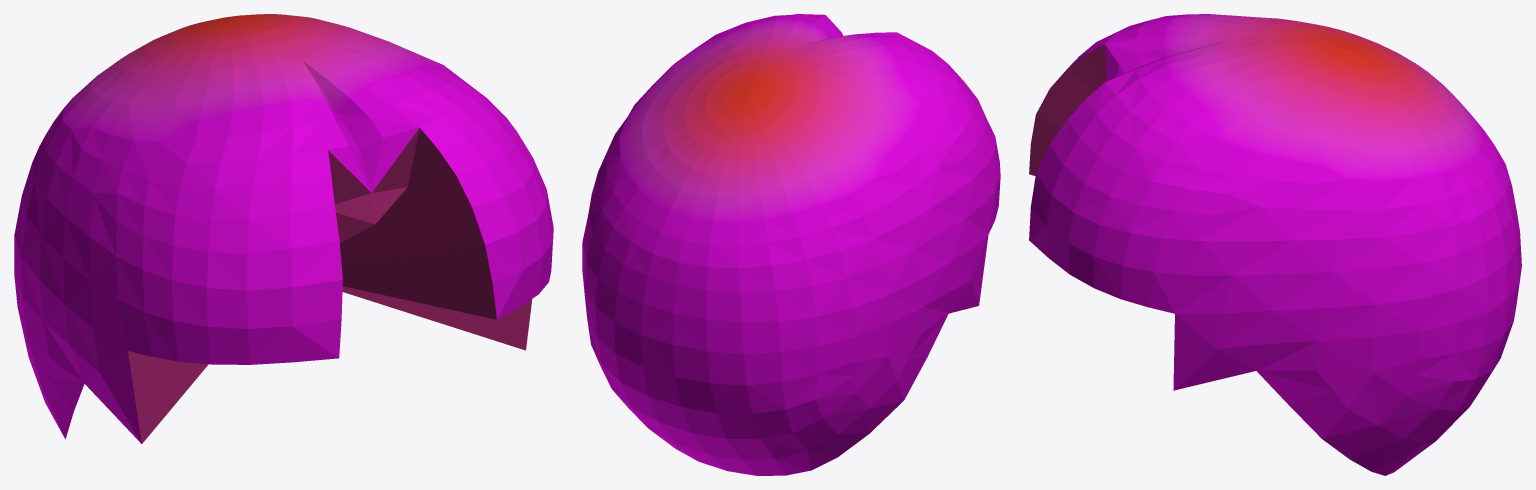
3 renders of one model, left to right at view 1: azimuth 30°, elevation 25°; view 2: azimuth 150°, elevation 25°; view 3: azimuth 270°, elevation 25°, orthographic. The views are drawn at different scales.
Visible parts, largest first — view 1: shape; view 2: shape; view 3: shape.
Boxes of the visible parts, <box> form: shape: <box>14,14,553,443</box>; shape: <box>582,14,1000,475</box>; shape: <box>1029,14,1521,475</box>.
Size of the model in its own units: 55.43 by 59.95 by 65.09.
